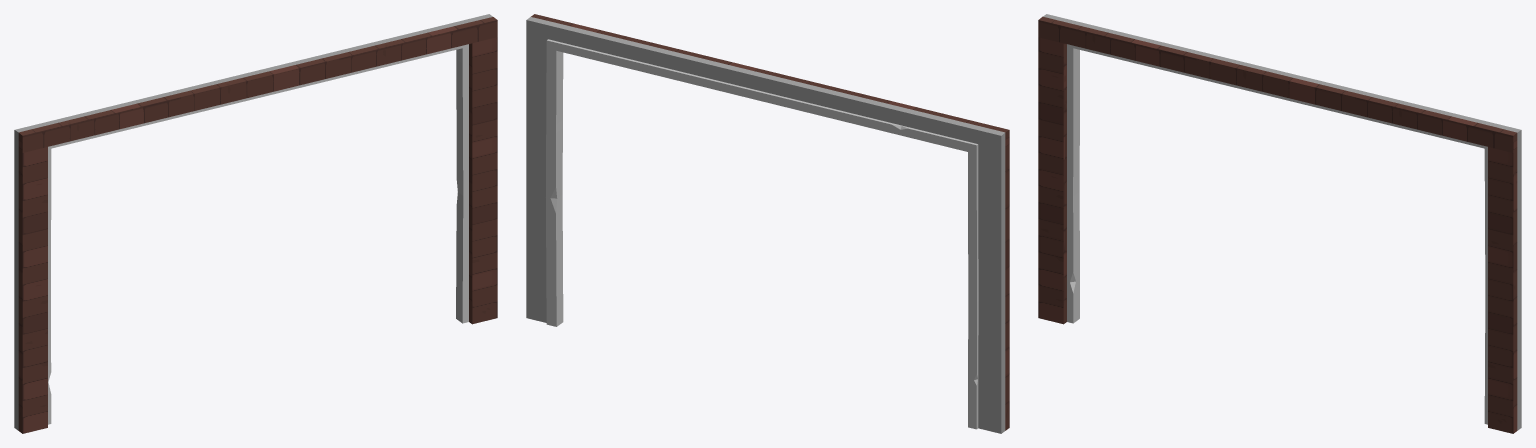
File: SM_Bld_Wall_Garage_Large_01.fbx
3 renders of one model, left to right at view 1: azimuth 30°, elevation 25°; view 2: azimuth 150°, elevation 25°; view 3: azimuth 330°, elevation 25°, orthographic.
Parts seen in each view (by area): view 1: SM_Bld_Wall_Garage_Large_01; view 2: SM_Bld_Wall_Garage_Large_01; view 3: SM_Bld_Wall_Garage_Large_01.
Part boxes in pixels (x1=…): SM_Bld_Wall_Garage_Large_01: x1=14, y1=14, x2=497, y2=433; SM_Bld_Wall_Garage_Large_01: x1=526, y1=14, x2=1009, y2=433; SM_Bld_Wall_Garage_Large_01: x1=1038, y1=14, x2=1521, y2=433.
Size of the model in its own units: 750 by 451 by 26.76.
